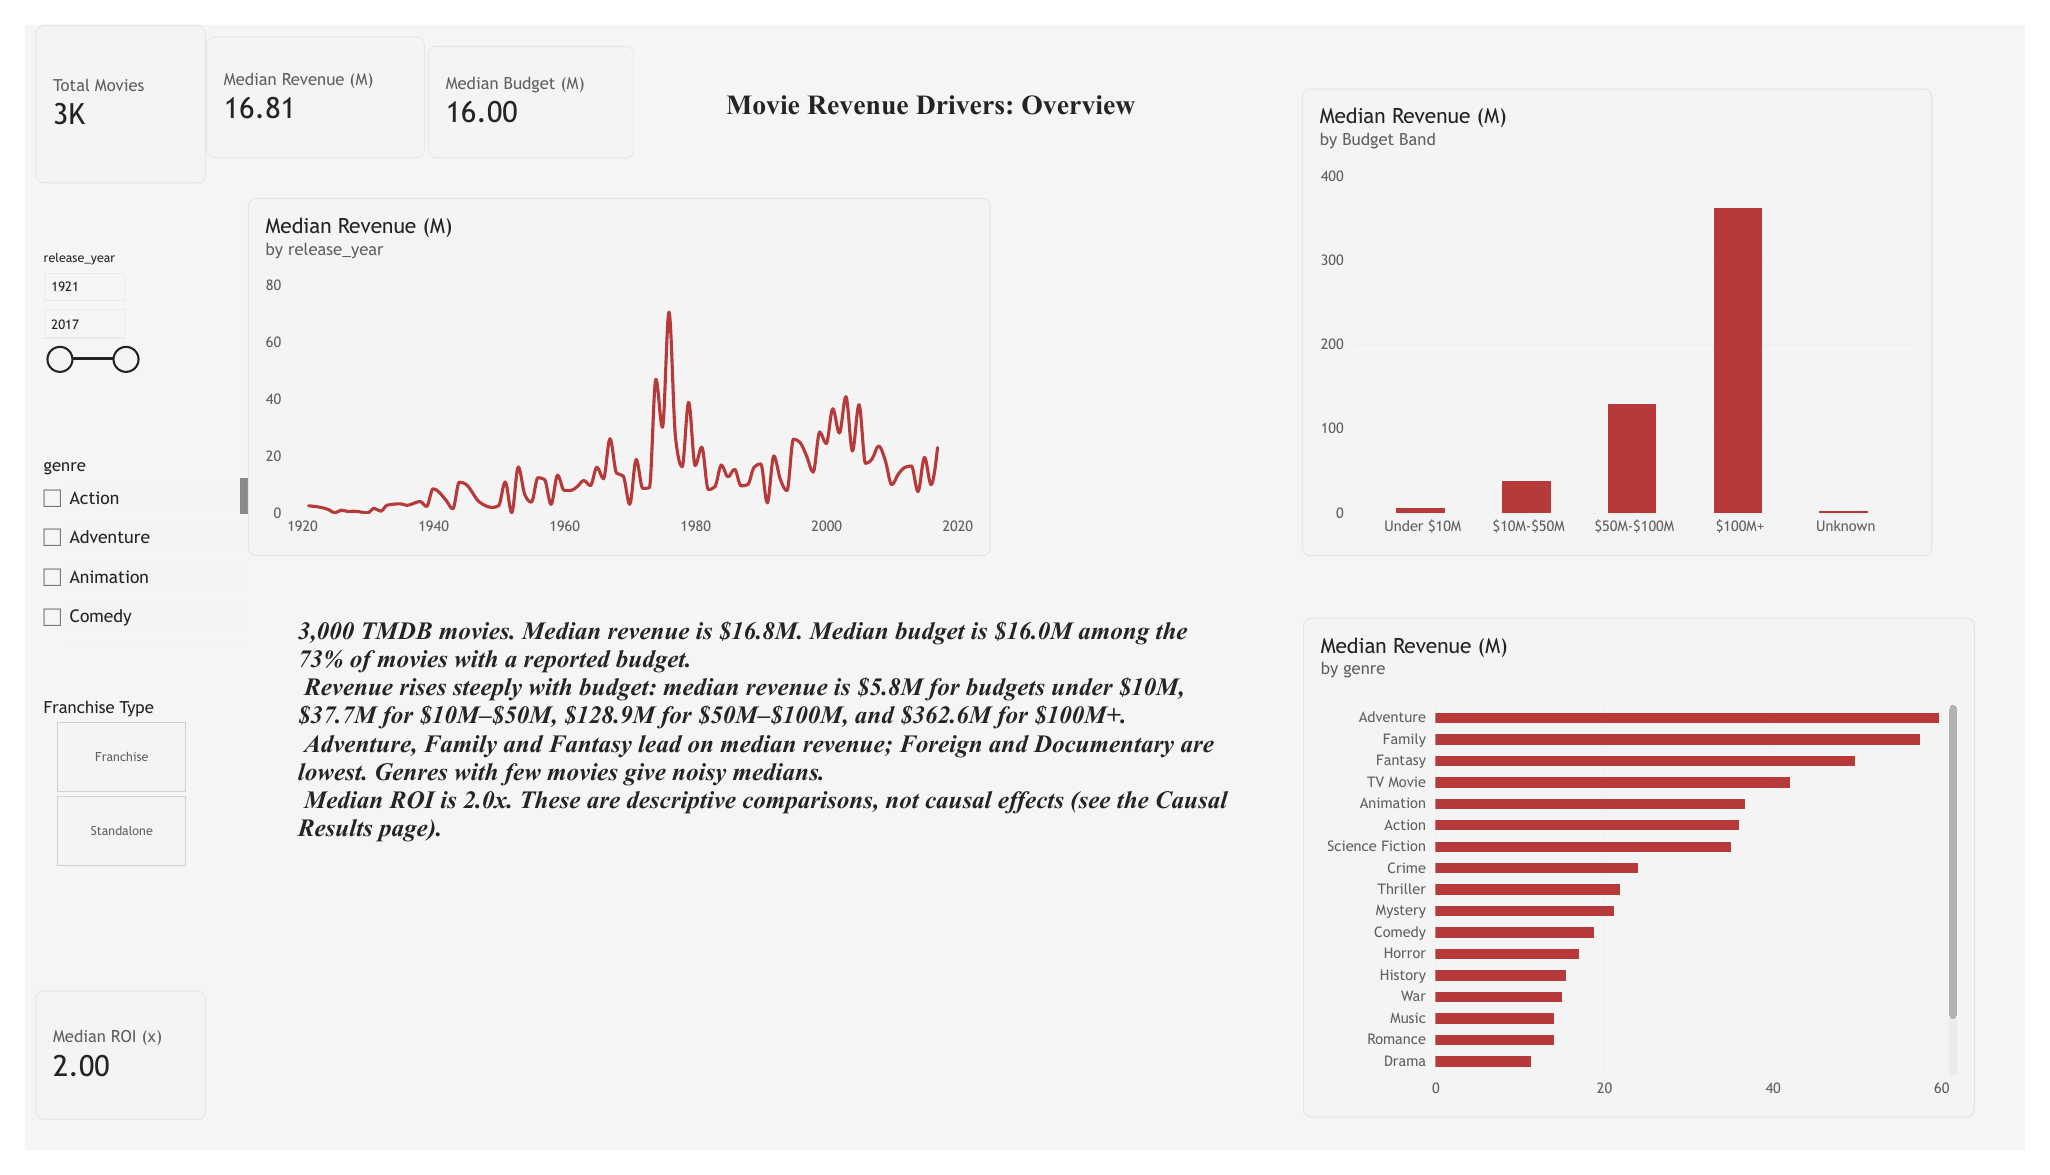

This screenshot's page, from the dashboard's own definition file:
{"tool":"powerbi","page":{"name":"Overview","canvas":[1920,1080],"ordinal":0},"visuals":[{"type":"cardVisual","fields":{"Data":["movies.Total Movies"]},"box":[10,0,164.3,152.9],"z":0},{"type":"cardVisual","fields":{"Data":["movies.Median Revenue (M)"]},"box":[174.3,11.4,210,117.1],"z":1000},{"type":"cardVisual","fields":{"Data":["movies.Median Budget (M)"]},"box":[387.1,20,198.6,108.6],"z":2000},{"type":"cardVisual","fields":{"Data":["movies.Median ROI (x)"]},"box":[10,927.1,164.3,124.3],"z":4000},{"type":"slicer","fields":{"Values":["movies.release_year"]},"box":[10,217.1,102.9,134.3],"z":5000},{"type":"slicer","fields":{"Values":["movie_genres.genre"]},"box":[10,414.3,204.3,182.9],"z":6000},{"type":"slicer","fields":{"Values":["movies.Franchise Type"]},"box":[10,645.7,164.3,162.9],"z":7000},{"type":"lineChart","fields":{"Category":["movies.release_year"],"Y":["movies.Median Revenue (M)"]},"box":[214.3,165.7,712.9,344.3],"z":8000},{"type":"clusteredBarChart","fields":{"Category":["movie_genres.genre"],"Y":["movies.Median Revenue (M)"]},"box":[1226.7,568.9,645.7,480],"z":9000},{"type":"clusteredColumnChart","fields":{"Category":["movies.Budget Band"],"Y":["movies.Median Revenue (M)"]},"box":[1225.7,61.4,605.7,448.6],"z":10000},{"type":"textbox","box":[262.2,568.9,897.8,280],"z":10001},{"type":"textbox","box":[673.3,62.2,486.7,91.1],"z":10002}]}

Visuals, with their boxes in screenshot pixels (x1, y1, x2, y2), scaled from the page's 1920x1080 canvas onto the 2050x1175 screenshot:
cardVisual - movies.Total Movies: 11,0,186,166
cardVisual - movies.Median Revenue (M): 186,12,410,140
cardVisual - movies.Median Budget (M): 413,22,625,140
cardVisual - movies.Median ROI (x): 11,1009,186,1144
slicer - movies.release_year: 11,236,121,382
slicer - movie_genres.genre: 11,451,229,650
slicer - movies.Franchise Type: 11,702,186,880
lineChart - movies.release_year x movies.Median Revenue (M): 229,180,990,555
clusteredBarChart - movie_genres.genre x movies.Median Revenue (M): 1310,619,1999,1141
clusteredColumnChart - movies.Budget Band x movies.Median Revenue (M): 1309,67,1955,555
textbox: 280,619,1239,924
textbox: 719,68,1239,167
